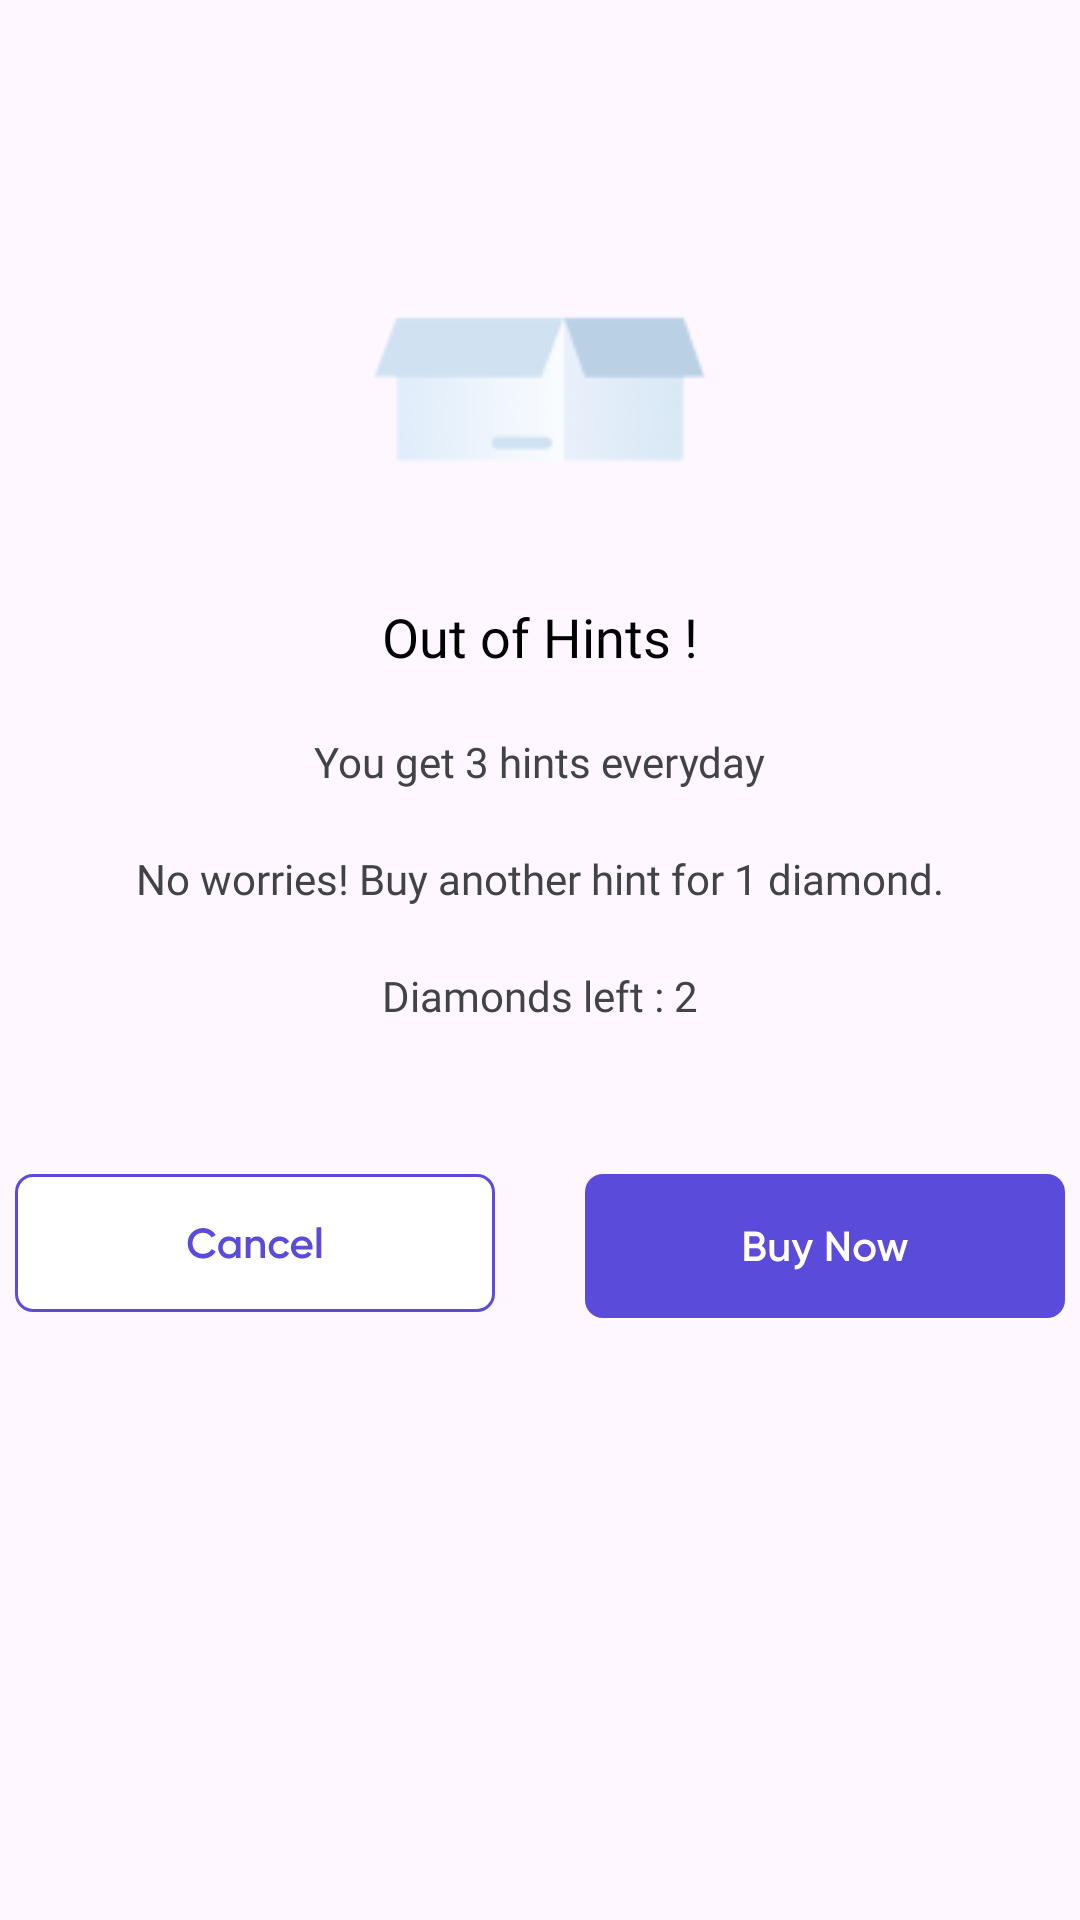

Locate icon controls on the screen. Image size 1080px×1920px, boxes as (x1, y1, x2, y2).
empty box: (376, 317, 704, 460)
